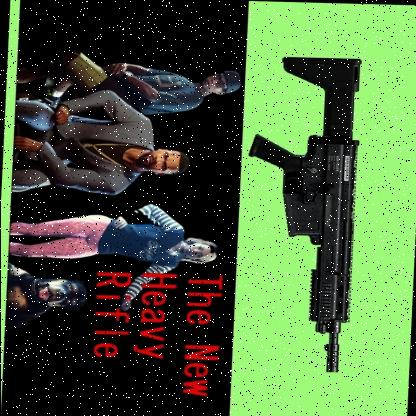rifle: (240, 50, 370, 378)
